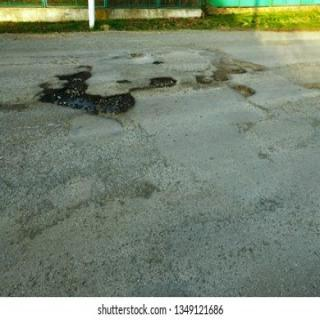pothole: (39, 71, 176, 114), (195, 52, 270, 84), (234, 86, 255, 97)
